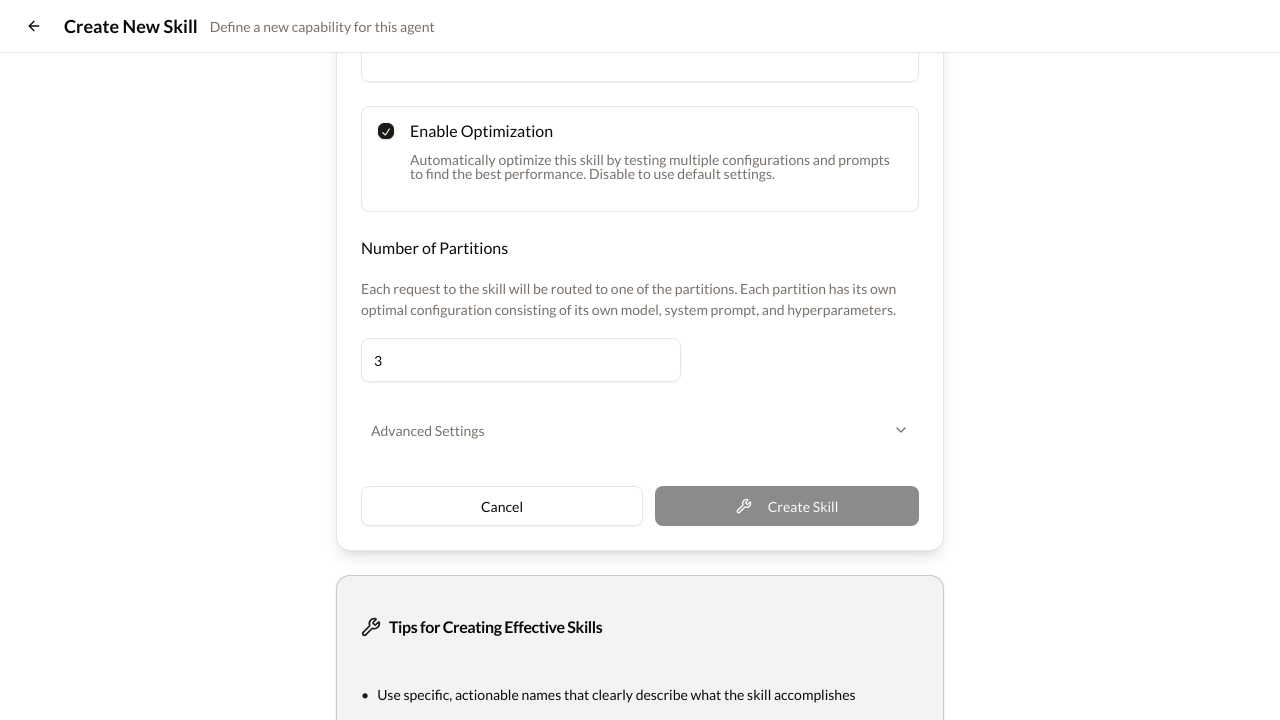
Test case: CreateSkillView › allows editing max configurations field
(page scrolled)
// Test that field can be edited
Replace the text in the number field labelled "Number of Partitions" with "50". click: (521, 360)
box: [361,338,681,382]
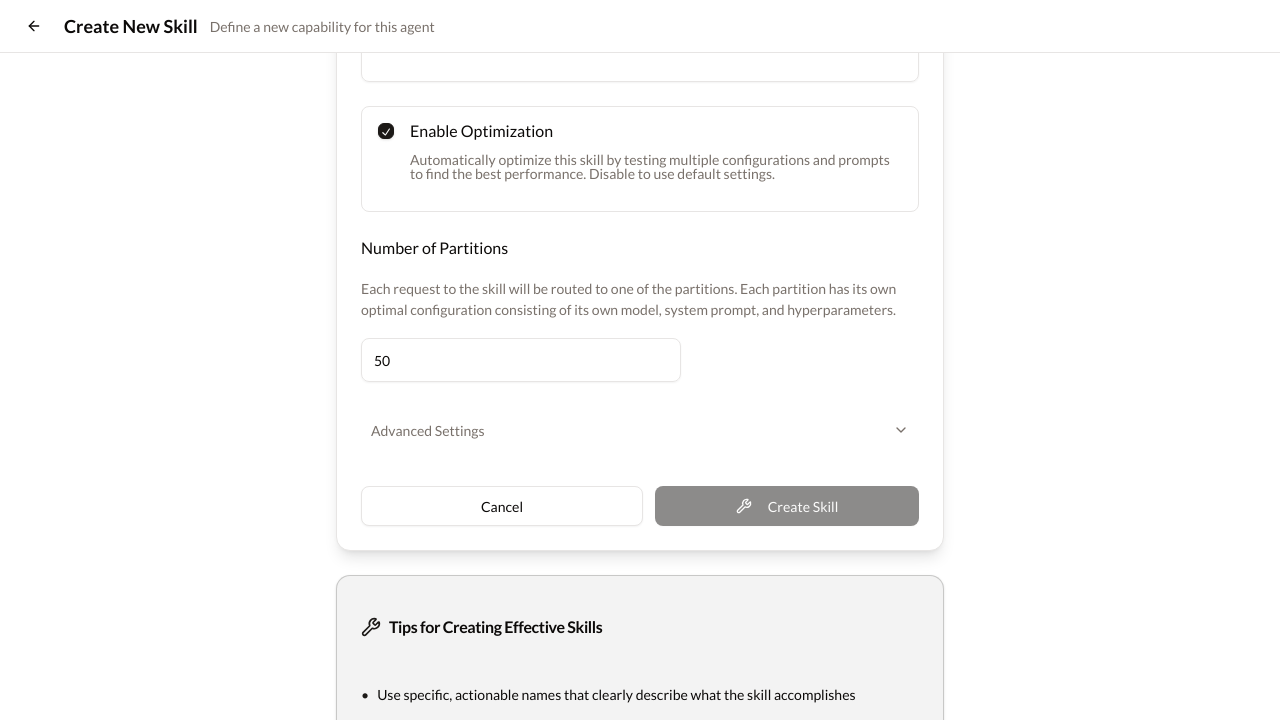
// Test clearing field - number inputs default to 0 when cleared
Clear the number field labelled "Number of Partitions". click: (521, 360)
box: [361,338,681,382]
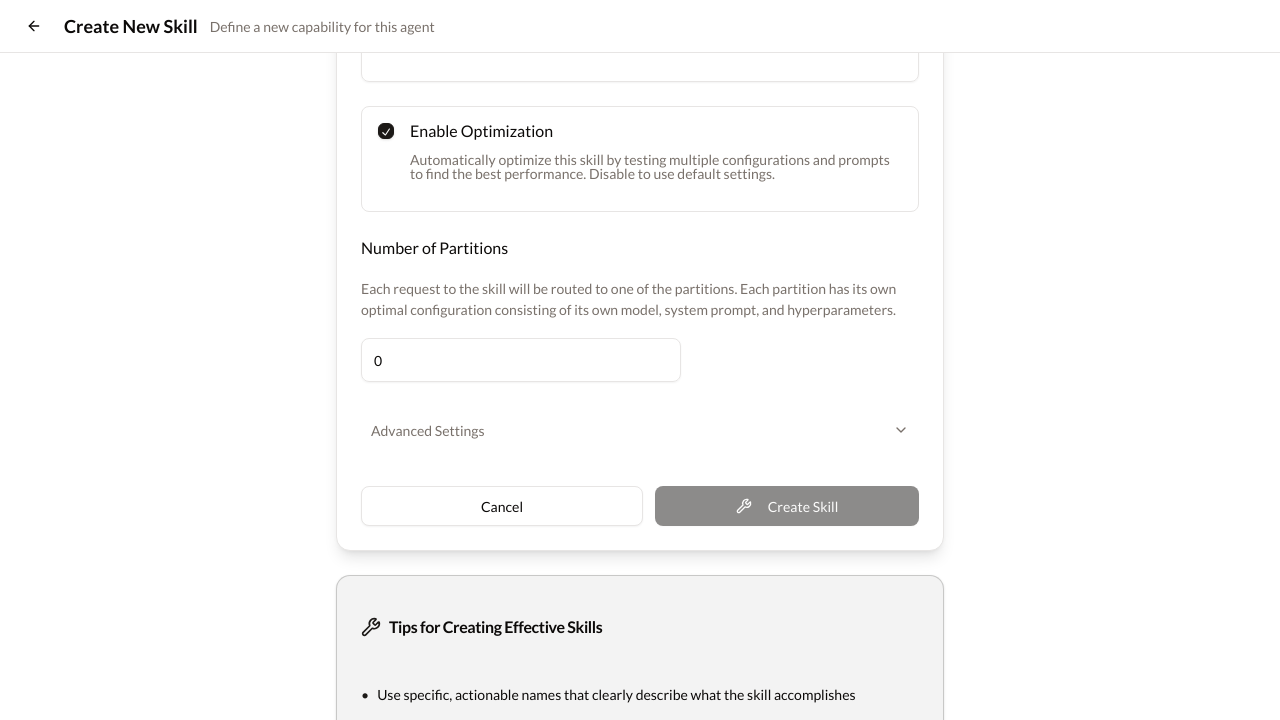
Result: the number field labelled "Number of Partitions" holds "0" at [361,338,681,382]
